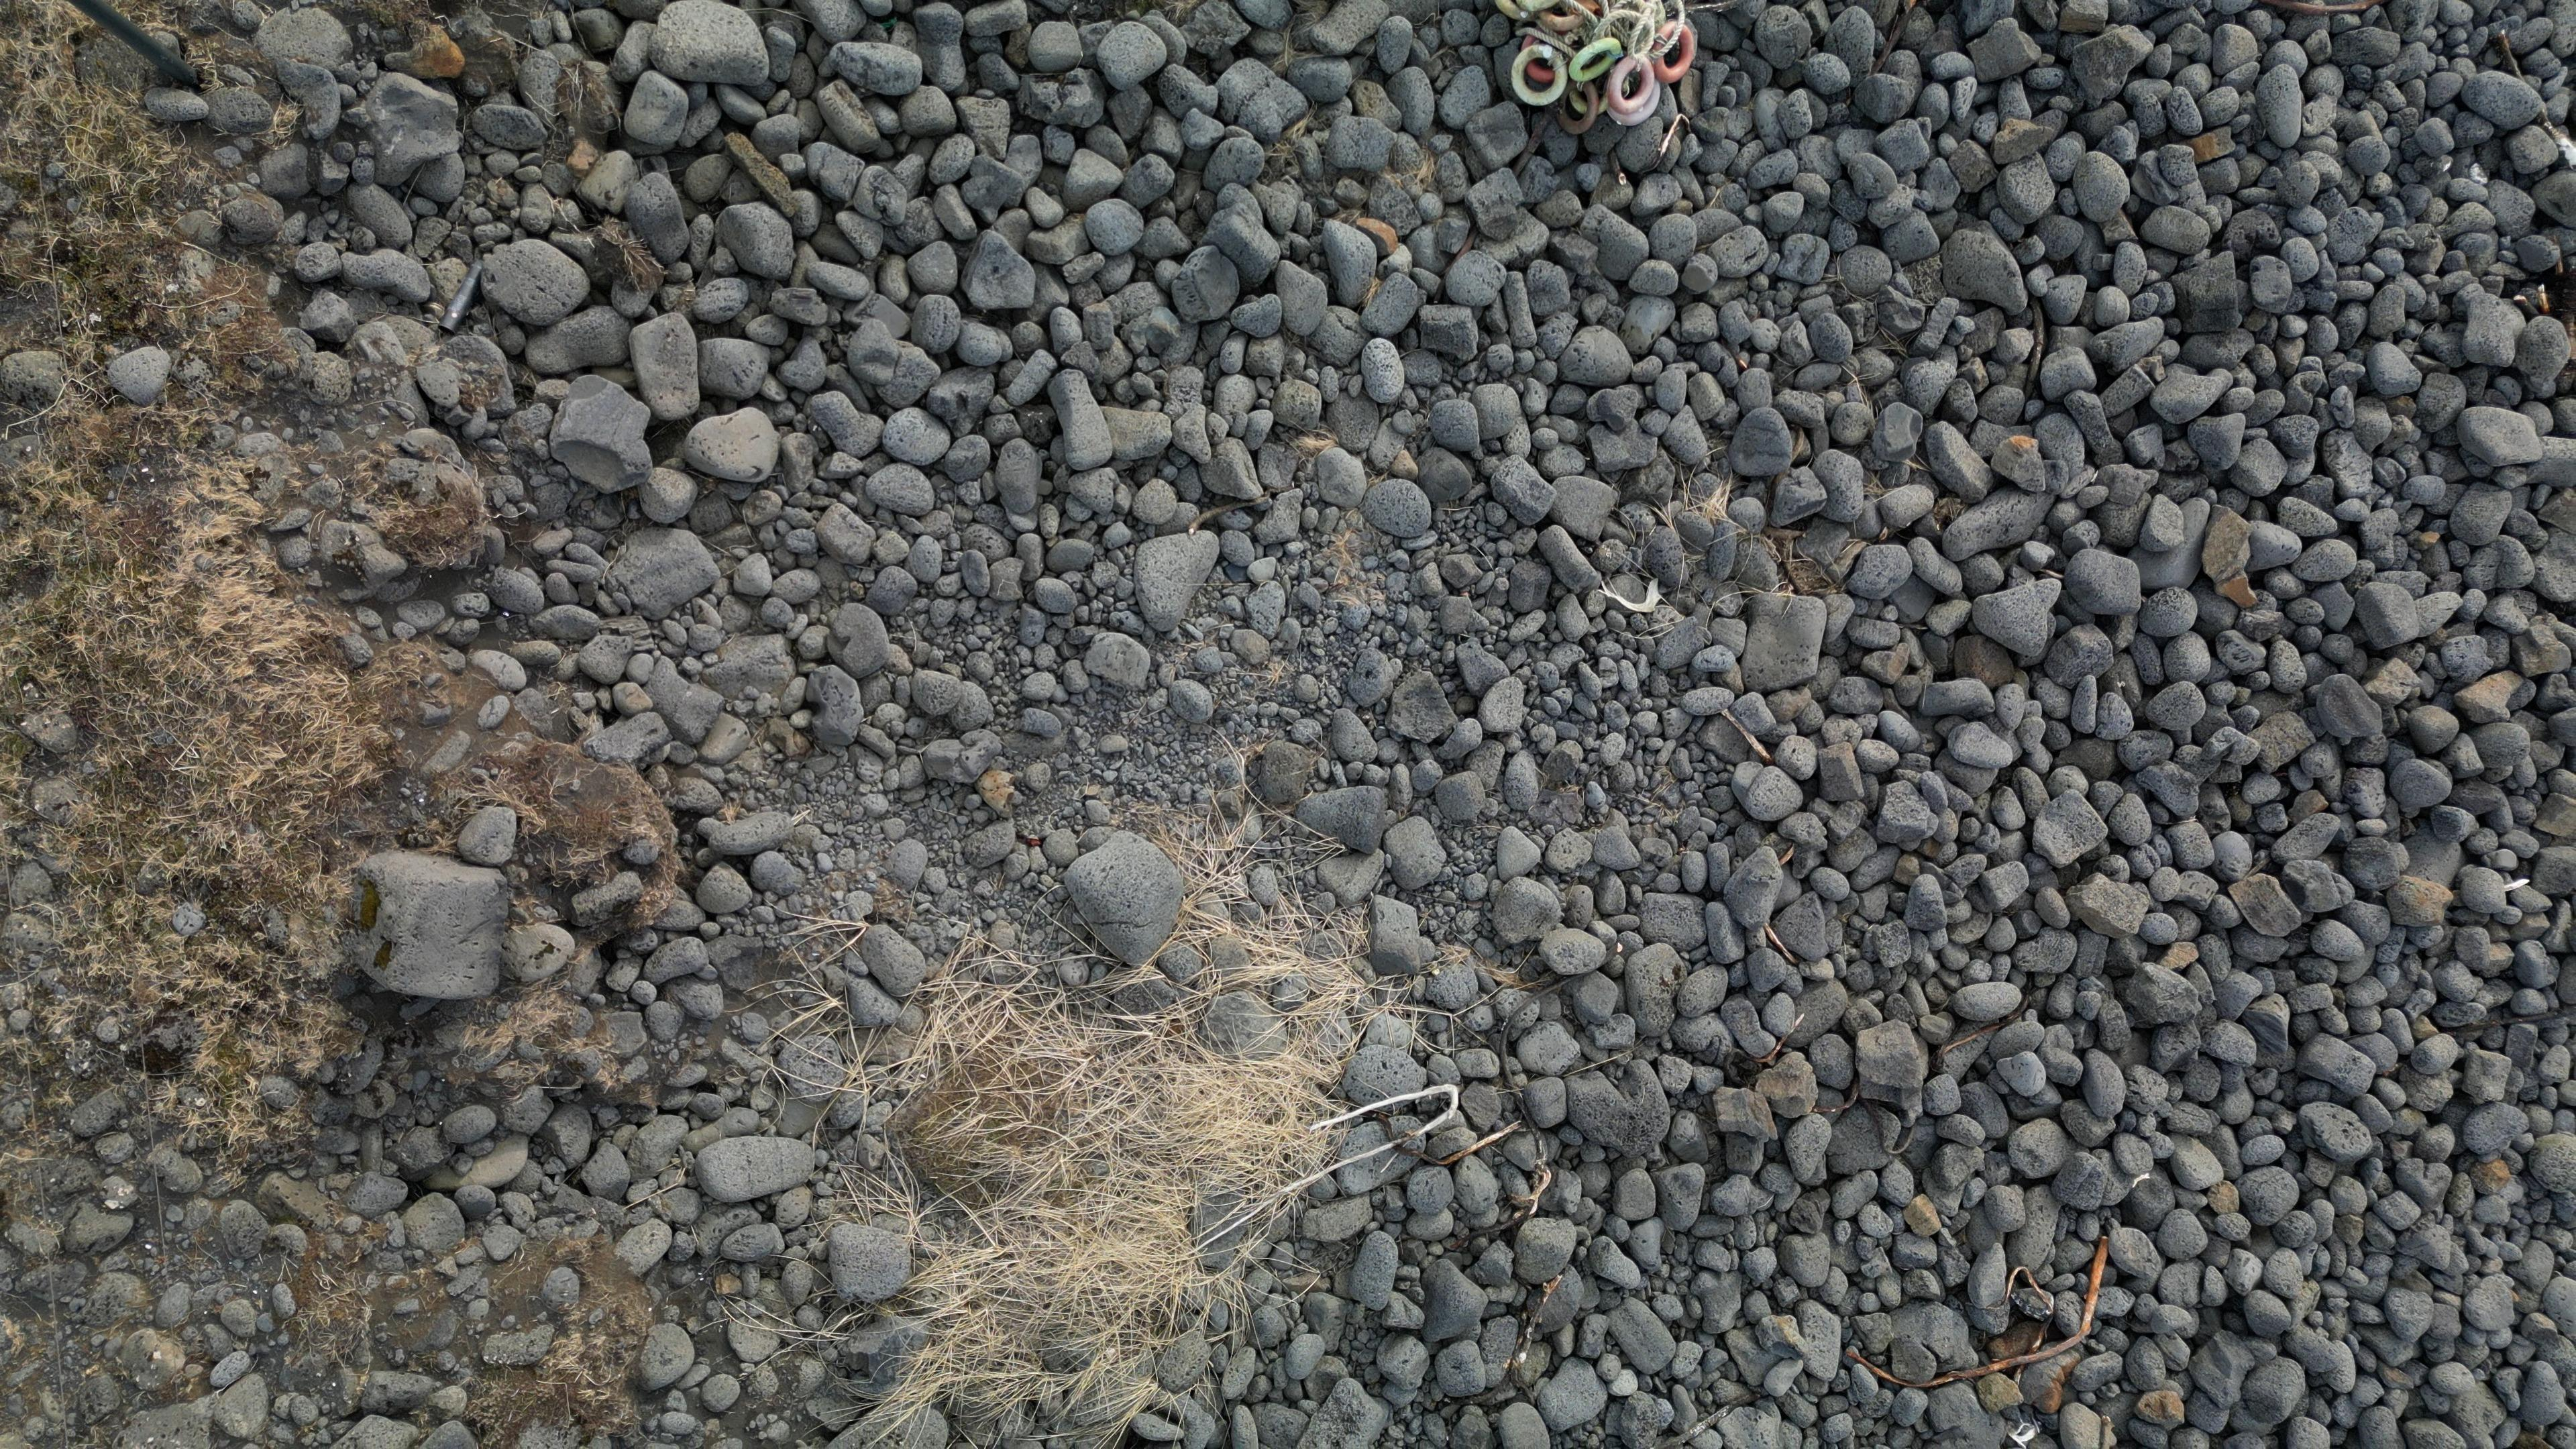trash: (1499, 0, 1695, 131)
